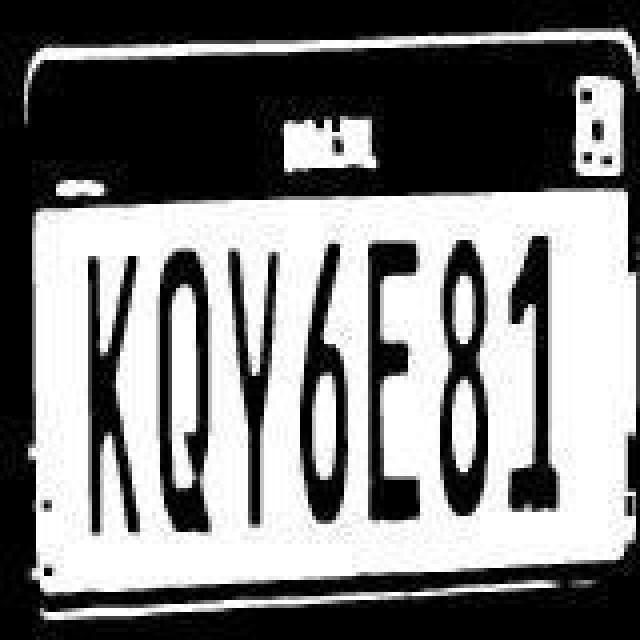1: (504, 228, 568, 516)
6: (292, 234, 356, 526)
8: (432, 232, 496, 520)
E: (358, 230, 426, 530)
K: (78, 248, 146, 544)
Q: (152, 246, 216, 538)
Y: (220, 244, 284, 532)
